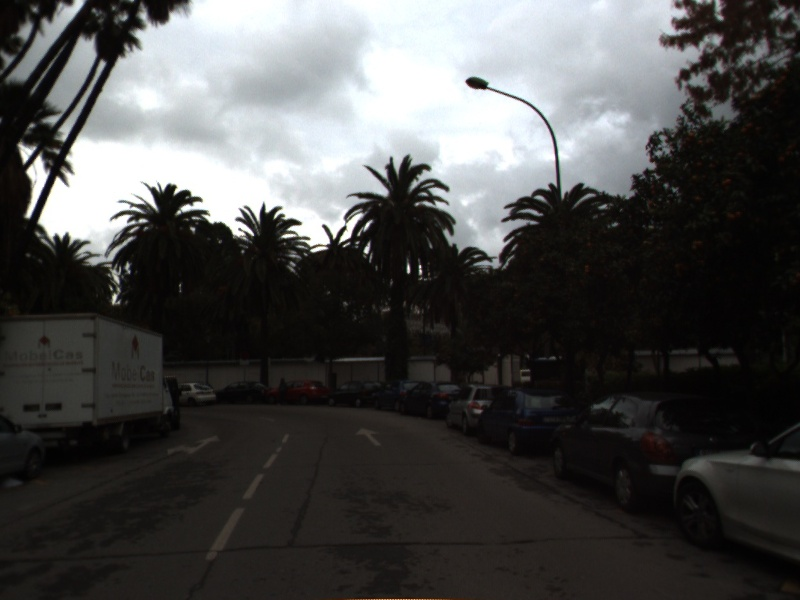STRAIGHT: (353, 425, 385, 448)
STRAIGHT_LEFT: (164, 433, 223, 458)
